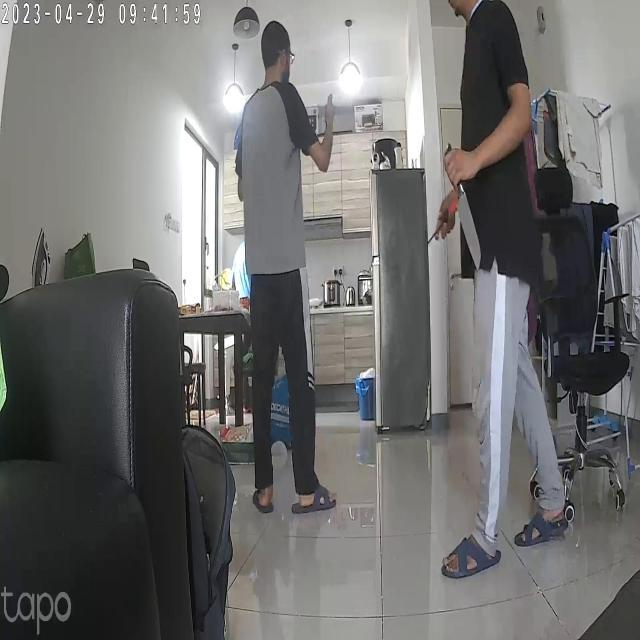Knife: (441, 165, 497, 277)
